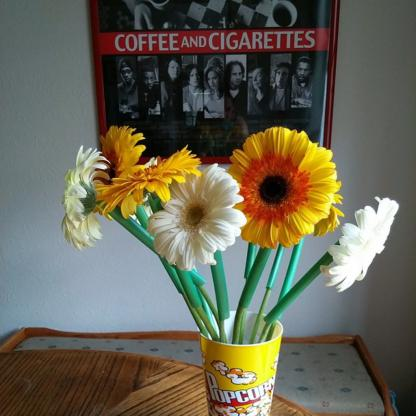vase: (196, 309, 284, 416)
